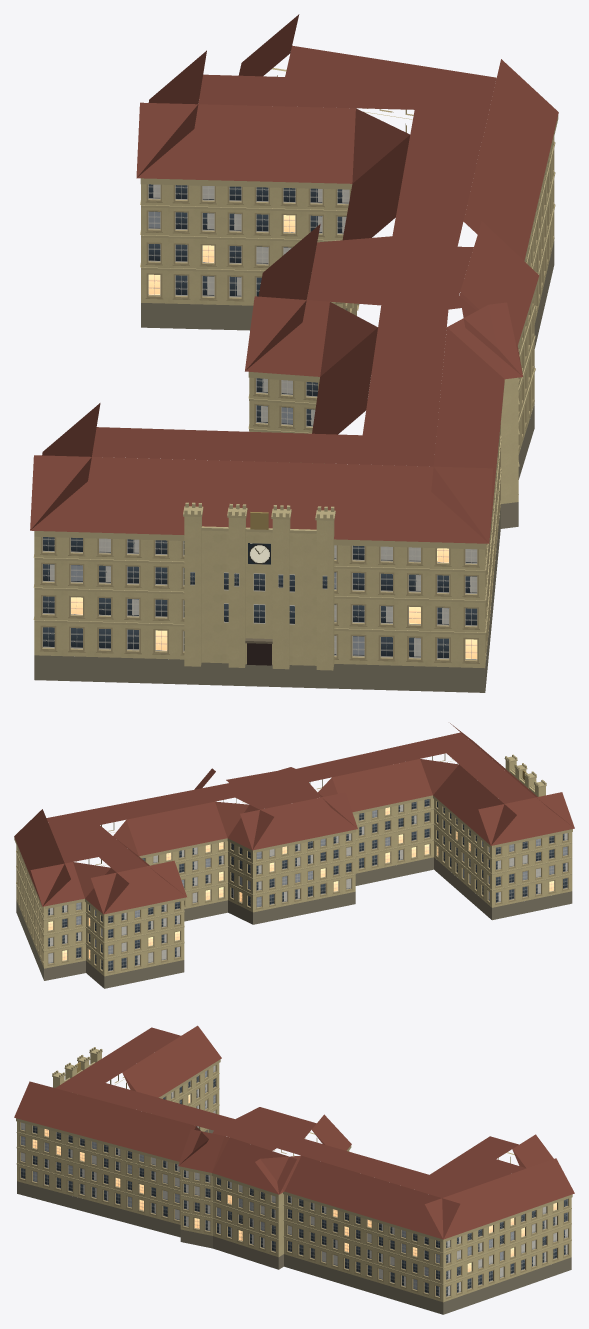
Rendered from kaserne.glb.
3 views of the same model, one above another, from view 1: azimuth 30°, elevation 25°; view 2: azimuth 150°, elevation 25°; view 3: azimuth 270°, elevation 25° (orthographic). The views are drawn at different scales.
Parts seen in each view (by area): view 1: kaserne; view 2: kaserne; view 3: kaserne.
Boxes of the visible parts, <box> form: kaserne: <box>30,14,558,692</box>; kaserne: <box>14,723,574,988</box>; kaserne: <box>14,1025,574,1314</box>.
Bounding box in the file's own units: 115 × 26.9 × 134.
3 materials, 3 textured.
